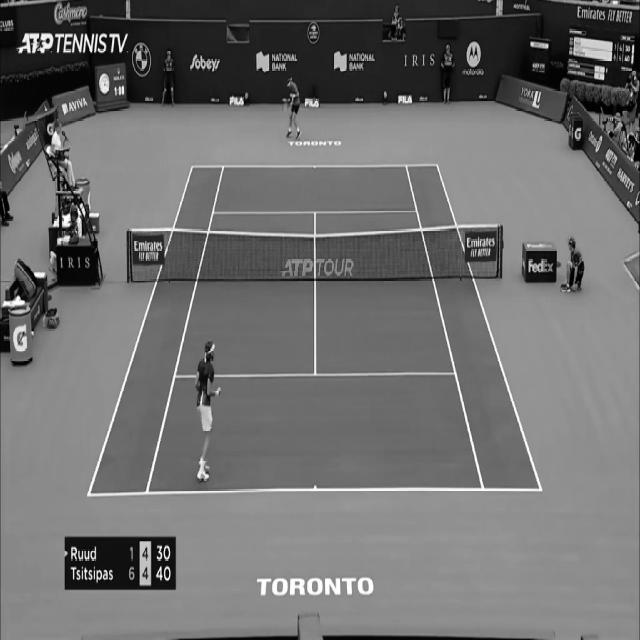tennis-court: (87, 164, 543, 496)
